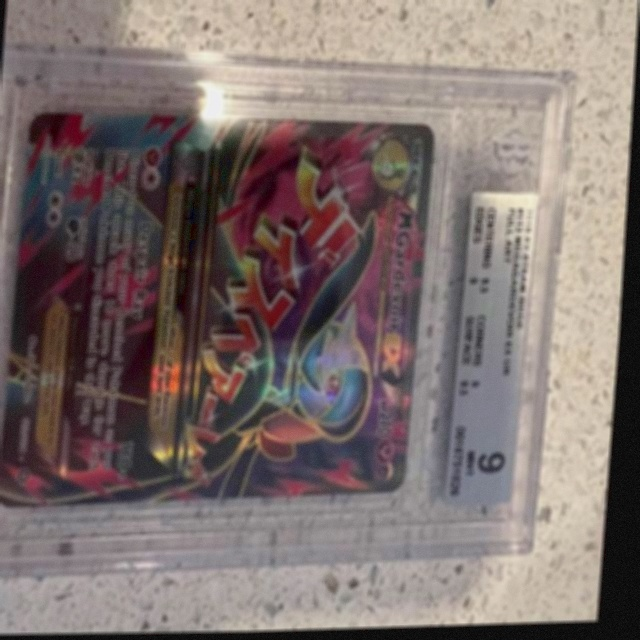card: (0, 110, 436, 510)
